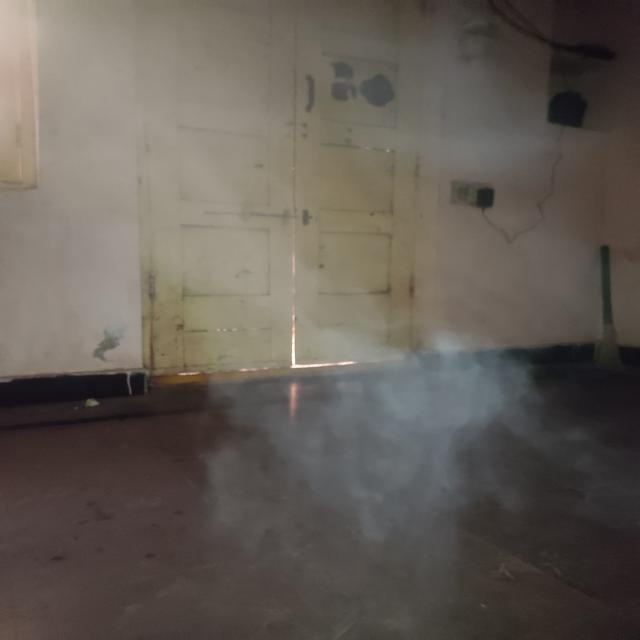smoke: (261, 282, 530, 514)
